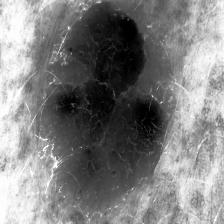Benign Marking or Mole: (47, 0, 168, 204)
